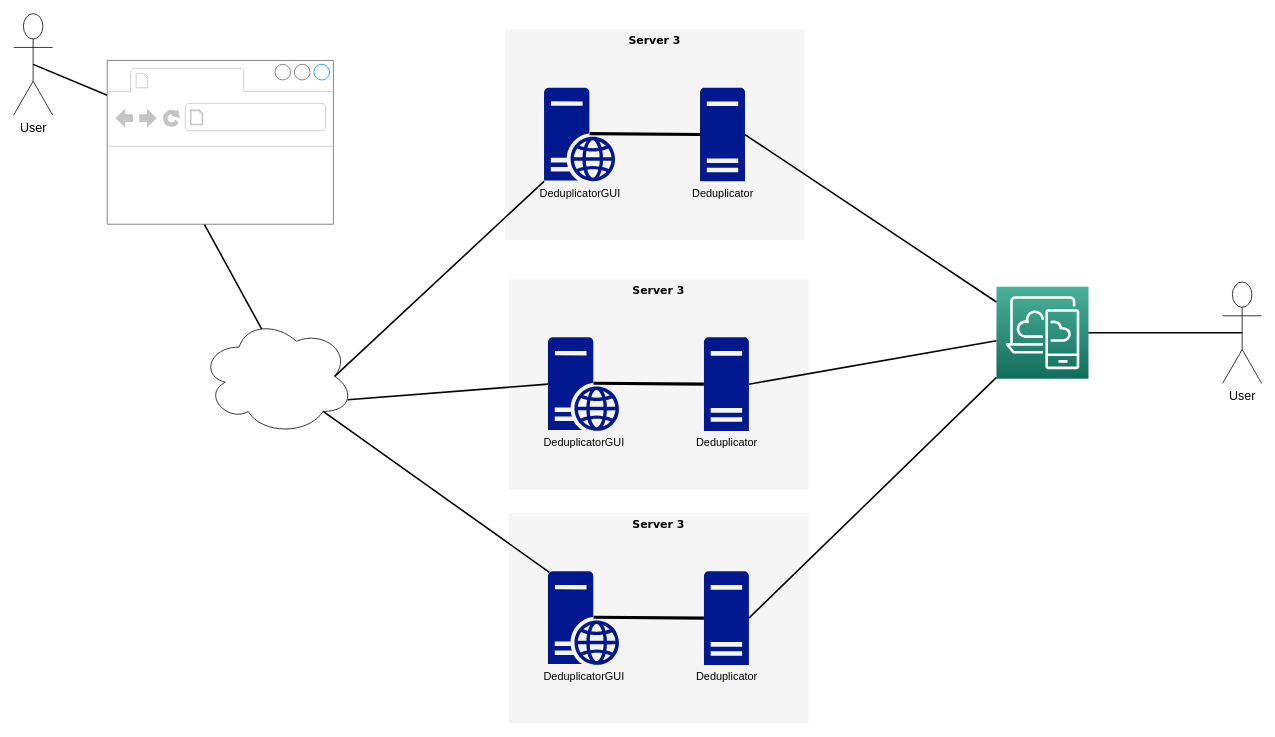
This 1275x737 diagram has some shape labels left out. The centre of each missing label's shape, as x and y in pixels:
https://www.draw.io: point (306, 117)
Internet: point (277, 376)
Page 1: point (196, 79)
Rest client: point (1042, 332)
